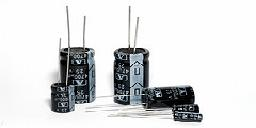Electrolytic-Capacitor: (57, 4, 99, 107), (112, 4, 149, 108), (142, 85, 203, 107), (47, 81, 80, 115), (167, 113, 208, 123)
